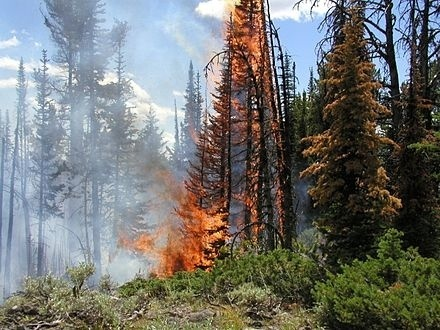fire: (140, 18, 310, 278)
